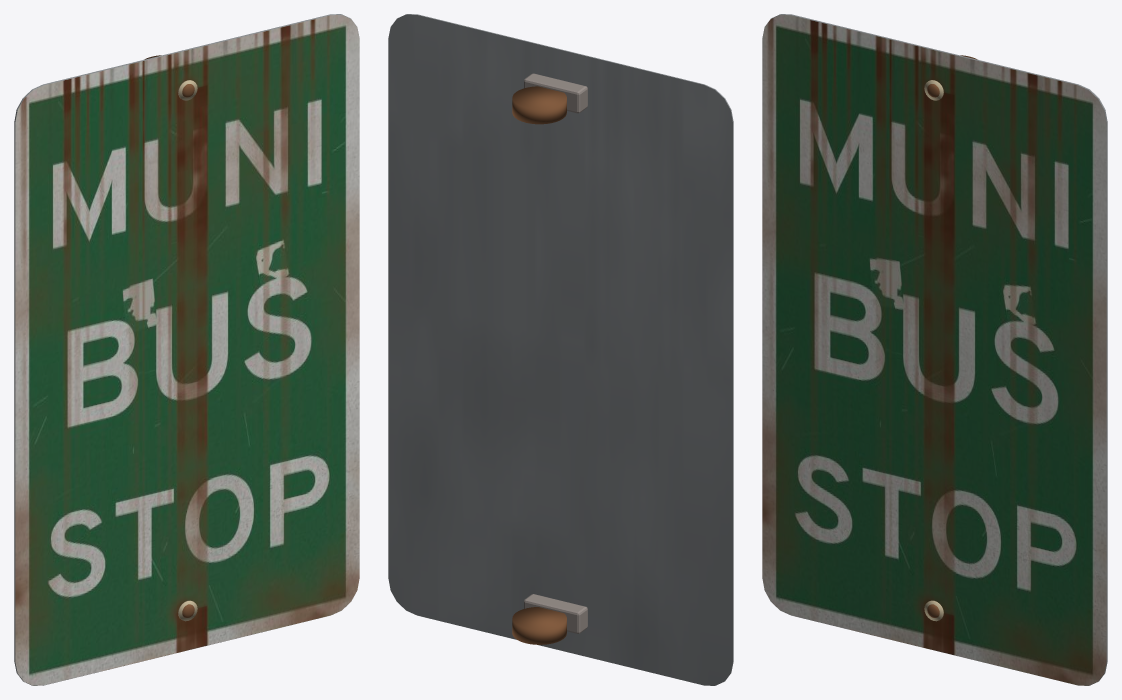
The model's file is guide-v1-rusty.glb.
3 renders of one model, left to right at view 1: azimuth 30°, elevation 25°; view 2: azimuth 150°, elevation 25°; view 3: azimuth 330°, elevation 25°, orthographic.
Parts seen in each view (by area): view 1: guide-v1-rusty; view 2: guide-v1-rusty; view 3: guide-v1-rusty.
Part boxes in pixels (left/top/right/bottom): guide-v1-rusty: left=14, top=14, right=359, bottom=685; guide-v1-rusty: left=388, top=14, right=733, bottom=685; guide-v1-rusty: left=762, top=14, right=1107, bottom=685.
Size of the model in its own units: 0.4572 by 0.7619 by 0.0871.
1 material, 1 textured.
